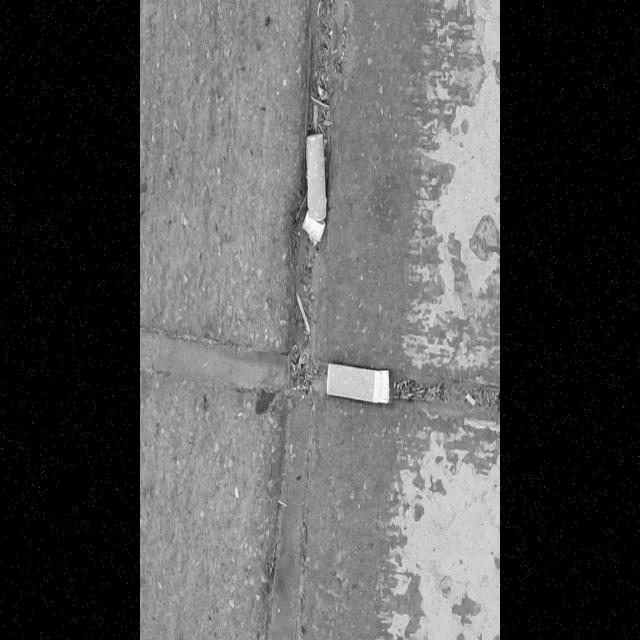other waste: (302, 132, 328, 245), (326, 362, 390, 405)
